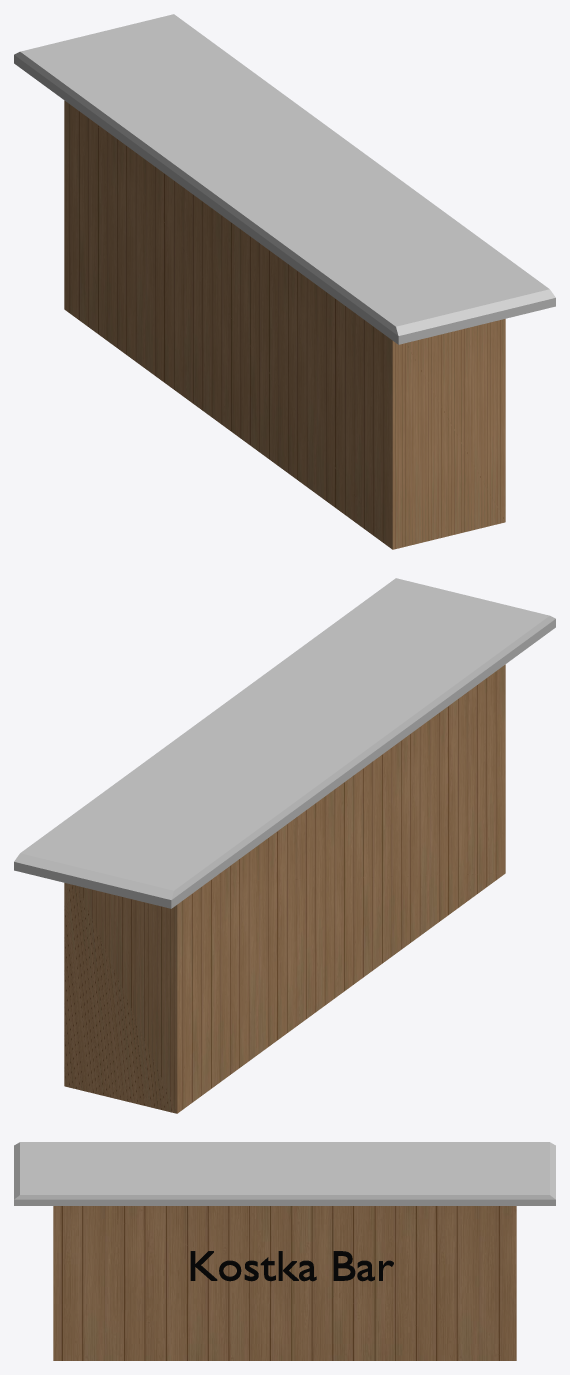
File: bar.fbx
The picture shows the model from 3 angles, top to bottom: view 1: azimuth 30°, elevation 25°; view 2: azimuth 150°, elevation 25°; view 3: azimuth 270°, elevation 25°; orthographic projection. The views are drawn at different scales.
Visible parts, largest first — view 1: Cube.001; view 2: Cube.001; view 3: Cube.001.
Boxes of the visible parts, <box> form: Cube.001: <box>14,14,555,549</box>; Cube.001: <box>14,578,555,1113</box>; Cube.001: <box>14,1142,555,1360</box>.
Size of the model in its own units: 279 by 415 by 1179.
